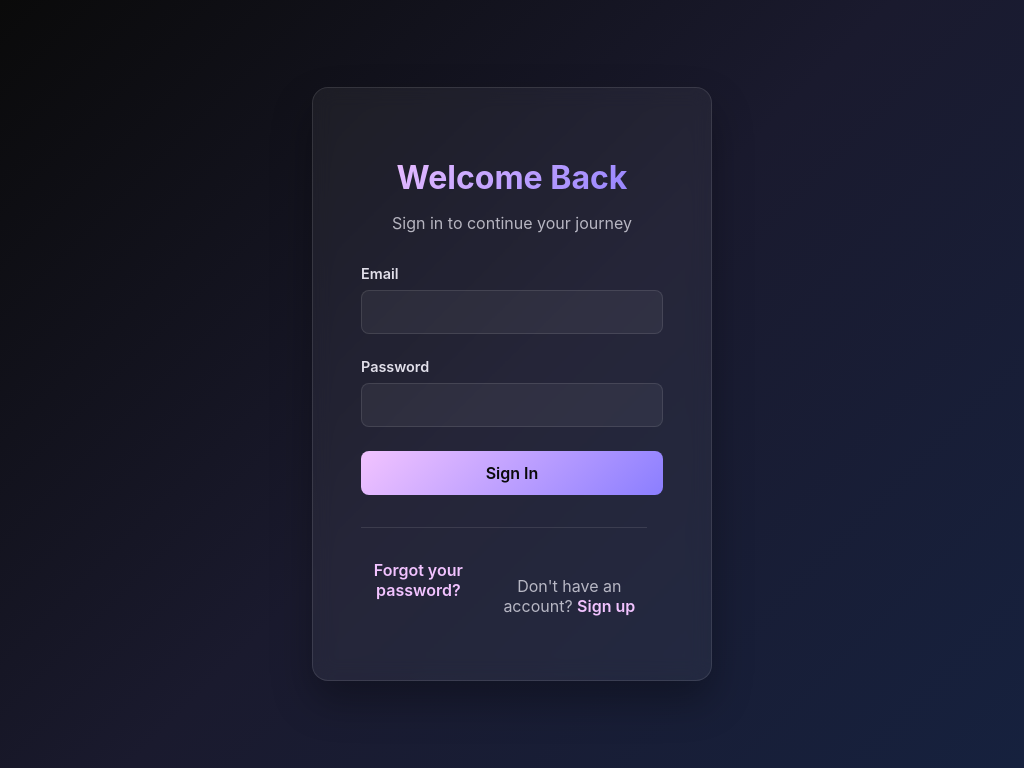
Test: LoginPage › validates password field and shows error for short password
Type "test@example.com" into the field labelled "Email" at (512, 312), box [361,290,663,334]
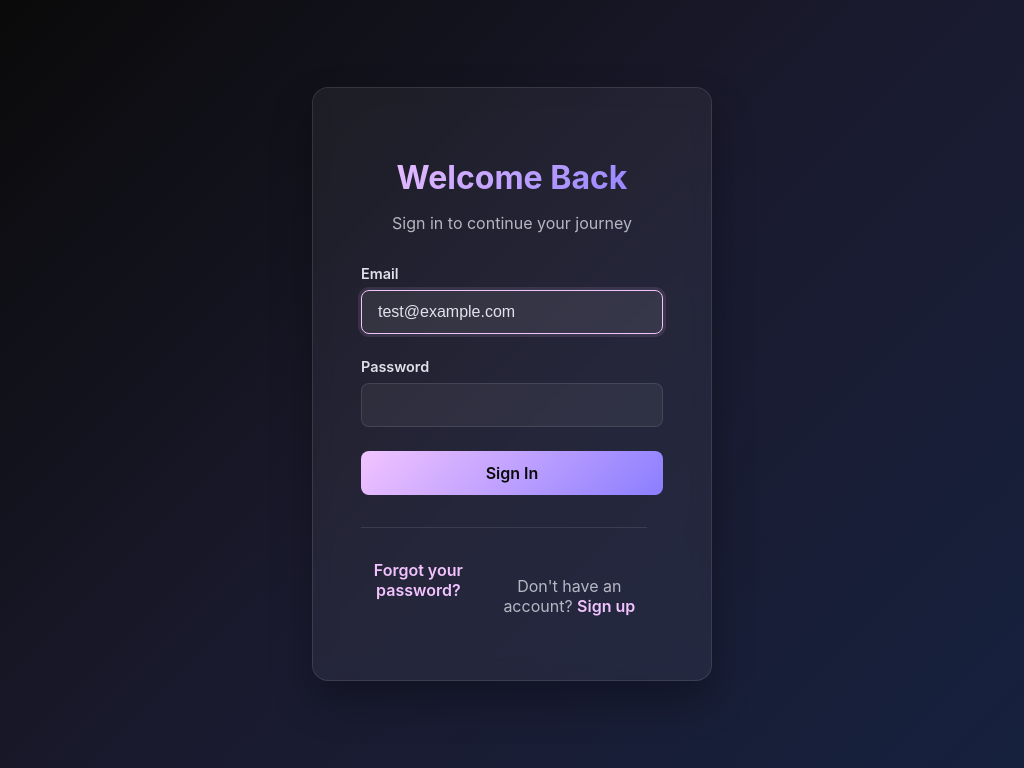
Type "123" into the password field labelled "Password" at (512, 405), box [361,383,663,427]
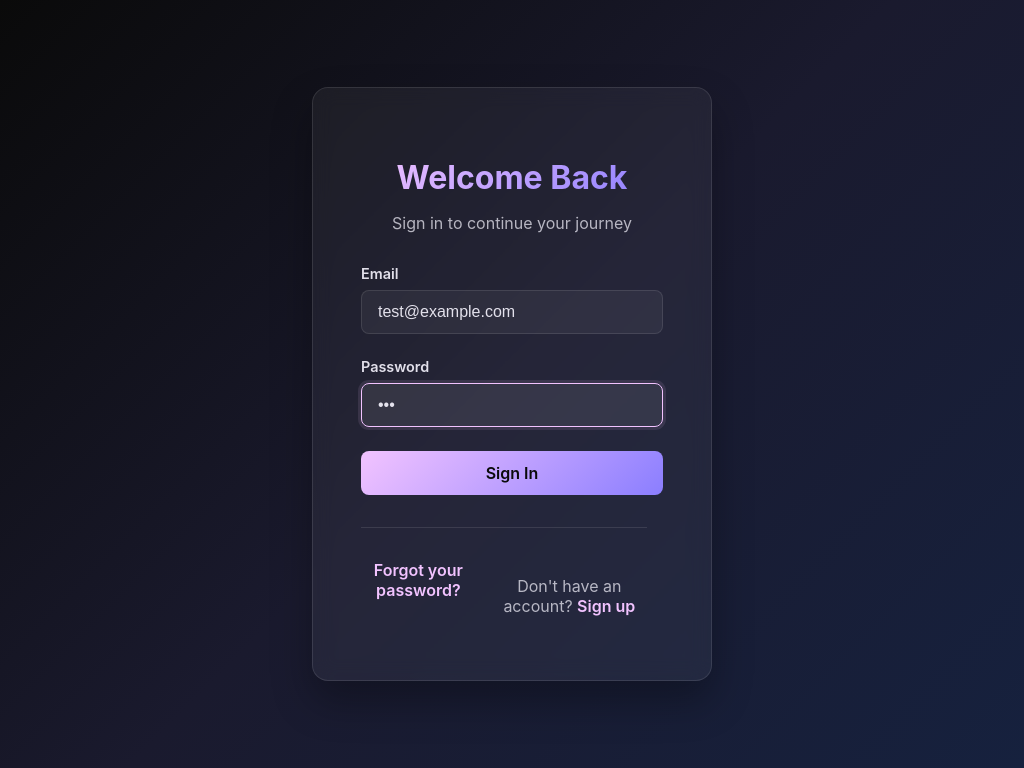
Click the button "Sign In" at (512, 473), box [361,451,663,495]
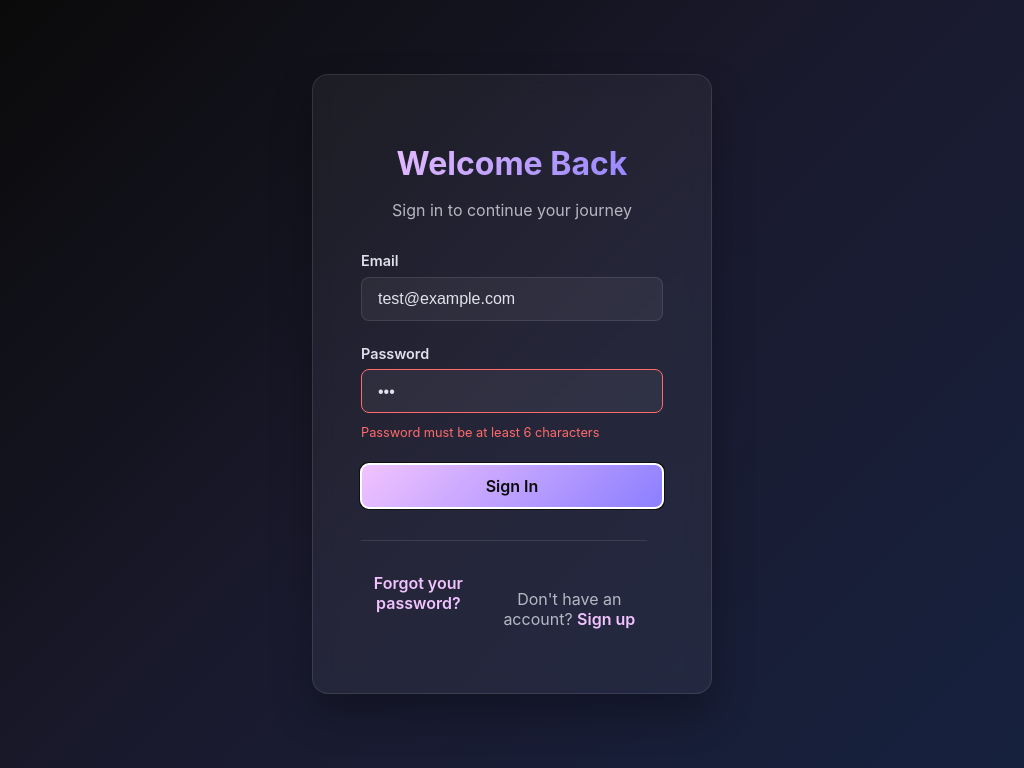
Now the text "Password must be at least 6 characters" is shown, box [361,425,599,440]
